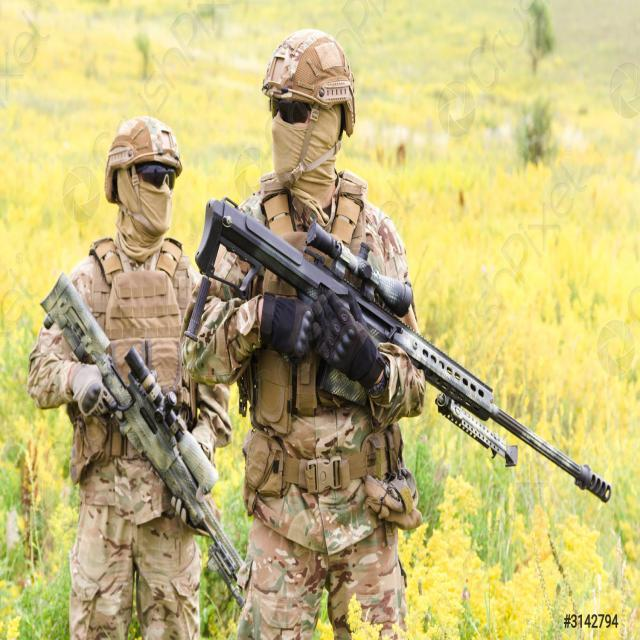rifle: (186, 178, 621, 517), (32, 269, 252, 612)
